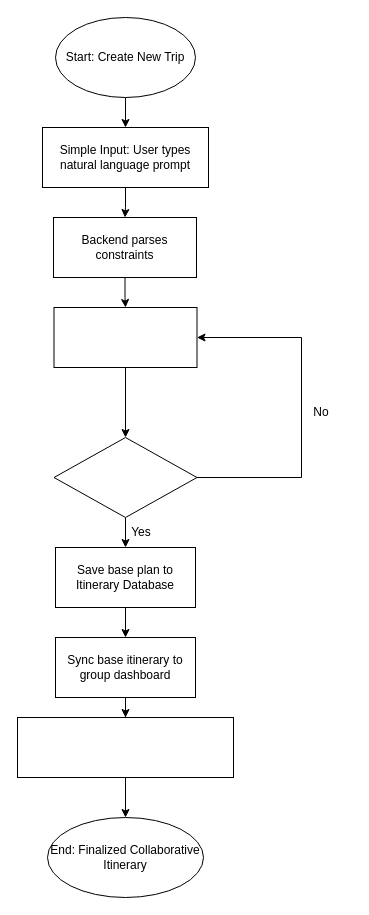
Image size: 369x915. Some labels were removed from this diagram. The shapes that lost their labels are listed below. From the top down, each one's centre as x and y in pixels, then its label:
At (125,337): "Request structured itinerary from LLM API".
At (125,477): "Valid JSON Response?".
At (125,747): "Team Editing: Group members manually edit or add places together".
